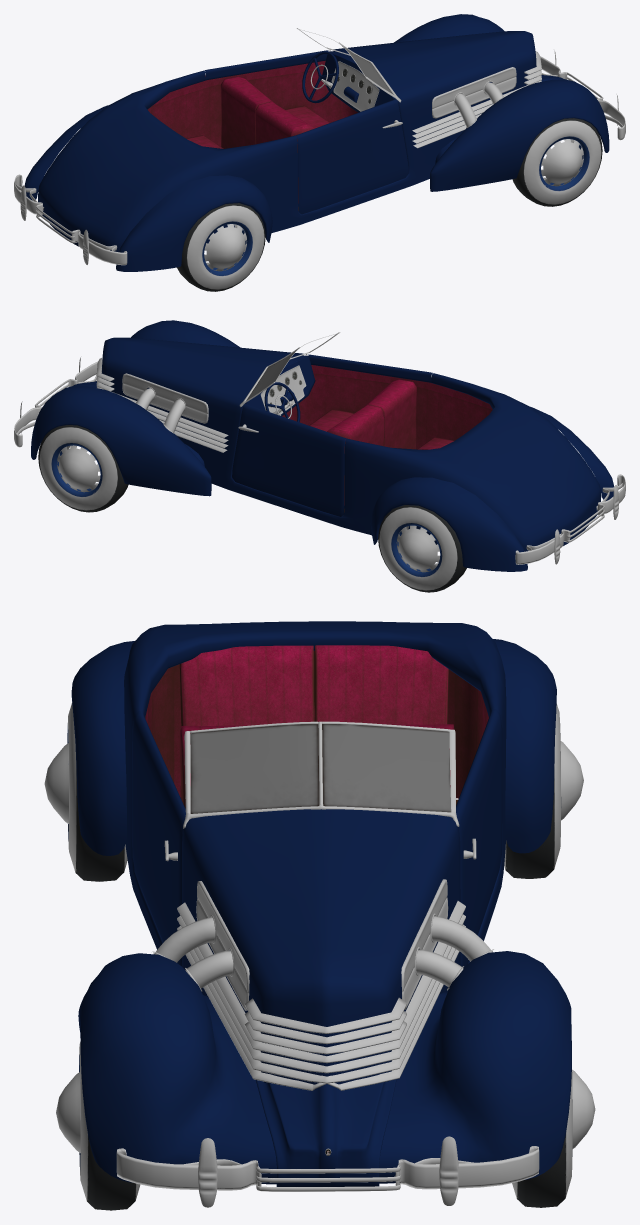
3 views of the same model, one above another, from view 1: azimuth 30°, elevation 25°; view 2: azimuth 150°, elevation 25°; view 3: azimuth 270°, elevation 25° (orthographic). The views are drawn at different scales.
Parts seen in each view (by area): view 1: Body, Wheels_low, Interior_low, MetalRim, Ventilation, Interior2_low; view 2: Body, Wheels_low, Interior_low, Interior2_low, MetalRim, Ventilation; view 3: Body, Interior_low, Wheels_low, MetalRim, Interior2_low, Ventilation.
Part boxes in pixels (bbox=[...]): Body: bbox=[24, 14, 609, 271]; Wheels_low: bbox=[177, 118, 602, 291]; Interior_low: bbox=[147, 60, 357, 148]; MetalRim: bbox=[14, 50, 625, 265]; Ventilation: bbox=[432, 67, 516, 127]; Interior2_low: bbox=[255, 101, 314, 203]; Body: bbox=[31, 320, 614, 571]; Wheels_low: bbox=[38, 425, 466, 592]; Interior_low: bbox=[282, 365, 492, 505]; Interior2_low: bbox=[309, 379, 453, 449]; MetalRim: bbox=[14, 357, 625, 564]; Ventilation: bbox=[122, 373, 208, 432]; Body: bbox=[71, 621, 571, 1186]; Interior_low: bbox=[145, 645, 488, 798]; Wheels_low: bbox=[44, 702, 595, 1210]; MetalRim: bbox=[116, 1136, 539, 1207]; Interior2_low: bbox=[179, 645, 314, 808]; Ventilation: bbox=[154, 879, 492, 1010].
Size of the model in its own units: 4.82 by 1.39 by 2.15.
3 materials, 3 textured.
